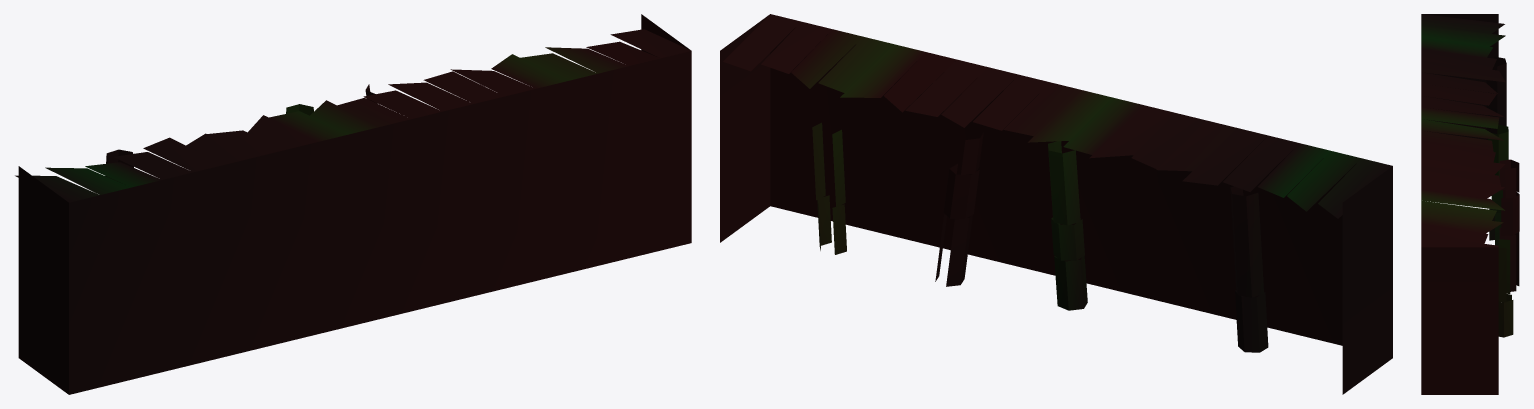
Rendered from tf_basalt_flowband_20m_lod2.glb.
3 renders of one model, left to right at view 1: azimuth 30°, elevation 25°; view 2: azimuth 150°, elevation 25°; view 3: azimuth 270°, elevation 25°, orthographic. The views are drawn at different scales.
Parts seen in each view (by area): view 1: tf_basalt_flowband_20m_lod2; view 2: tf_basalt_flowband_20m_lod2; view 3: tf_basalt_flowband_20m_lod2.
Boxes of the visible parts, box(x1,y1,x2,y2) form: tf_basalt_flowband_20m_lod2: box(15, 14, 691, 394); tf_basalt_flowband_20m_lod2: box(720, 14, 1392, 394); tf_basalt_flowband_20m_lod2: box(1421, 14, 1519, 394).
Size of the model in its own units: 20 by 5.9 by 3.56.
